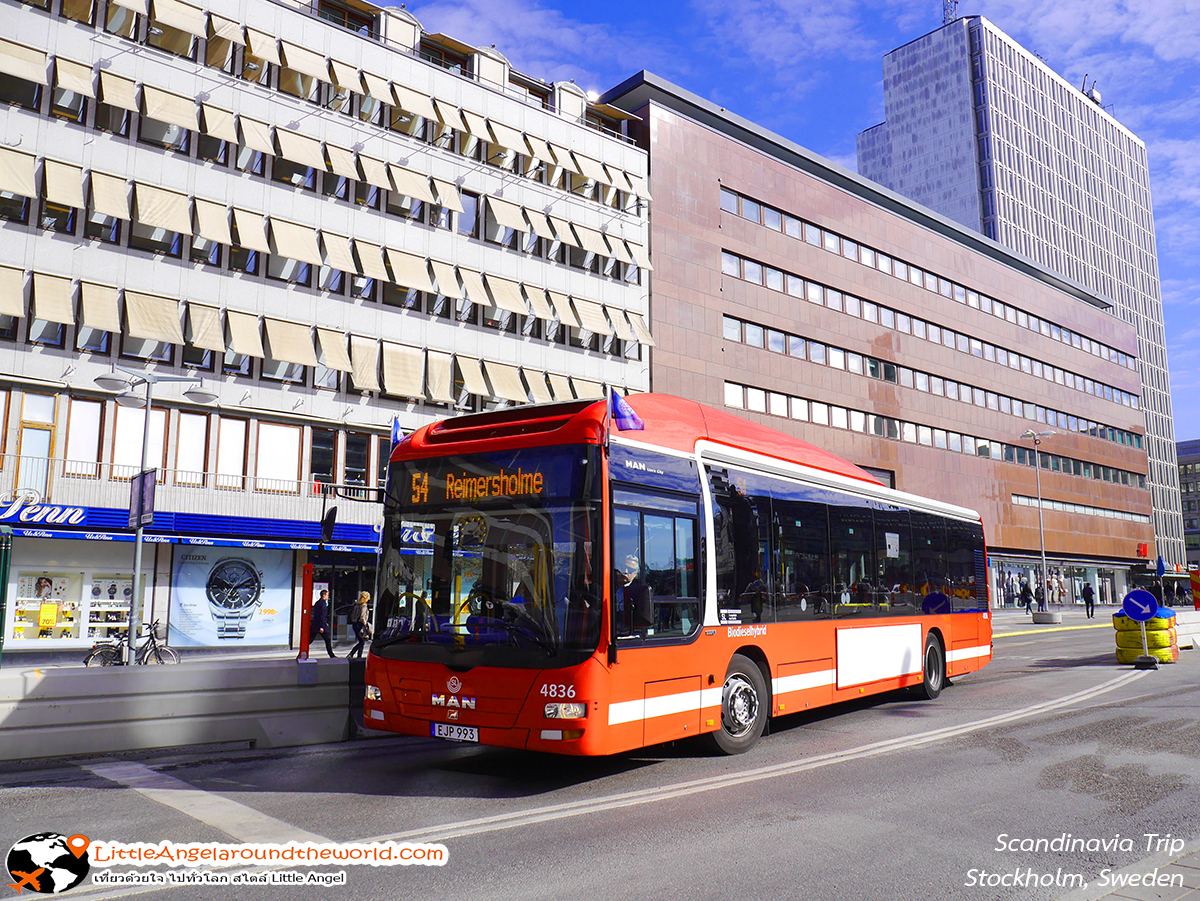bus: (361, 392, 992, 760)
